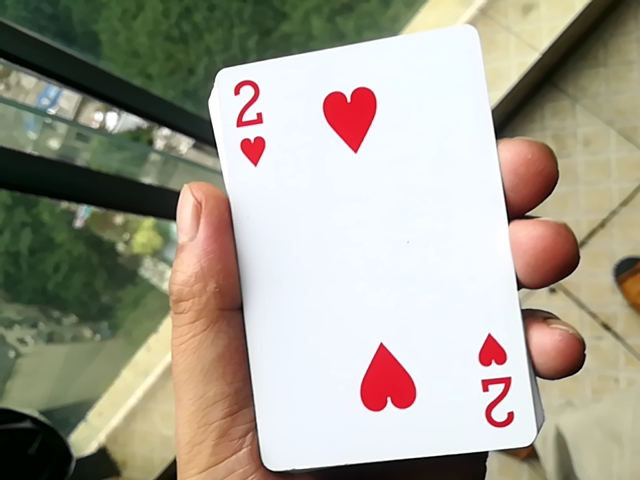hx 2: (195, 25, 538, 475)
